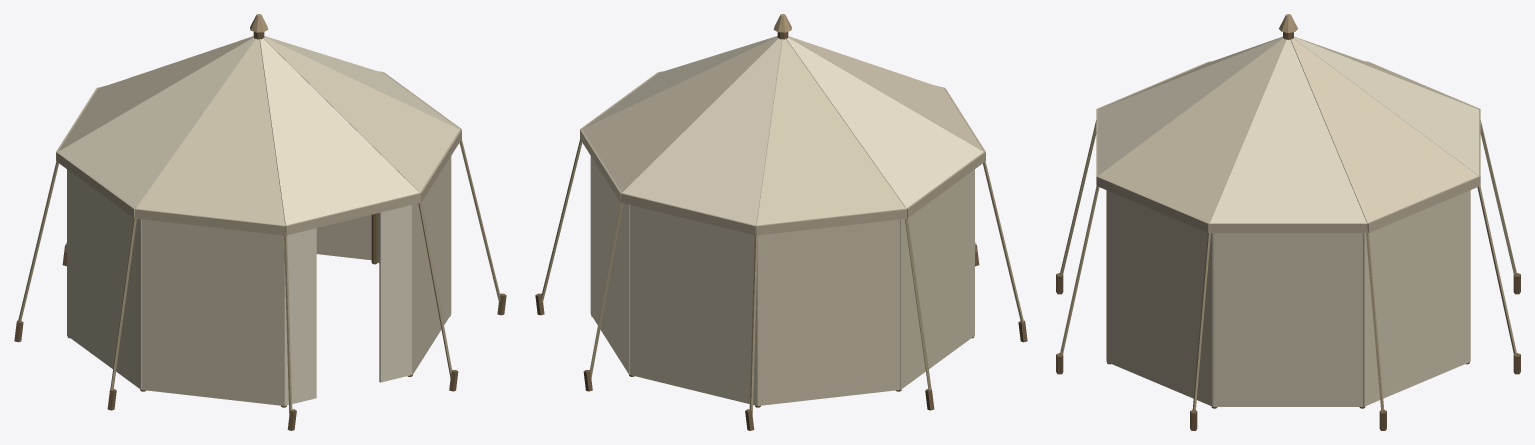
File: tent_pavilion.glb
3 views of the same model, side by side, from view 1: azimuth 30°, elevation 25°; view 2: azimuth 150°, elevation 25°; view 3: azimuth 270°, elevation 25° (orthographic).
Parts seen in each view (by area): view 1: tent_pavilion_camp_canvas, tent_pavilion_camp_canvas_light, tent_pavilion_camp_canvas_shadow, tent_pavilion_camp_rope, tent_pavilion_oak_dark; view 2: tent_pavilion_camp_canvas, tent_pavilion_camp_canvas_light, tent_pavilion_camp_canvas_shadow, tent_pavilion_camp_rope, tent_pavilion_oak_dark; view 3: tent_pavilion_camp_canvas, tent_pavilion_camp_canvas_light, tent_pavilion_camp_canvas_shadow, tent_pavilion_camp_rope, tent_pavilion_oak_dark.
Part boxes in pixels (x1=…): tent_pavilion_camp_canvas: x1=58, y1=36, x2=459, y2=405; tent_pavilion_camp_canvas_light: x1=58, y1=36, x2=458, y2=405; tent_pavilion_camp_canvas_shadow: x1=56, y1=71, x2=461, y2=235; tent_pavilion_camp_rope: x1=18, y1=139, x2=500, y2=414; tent_pavilion_oak_dark: x1=14, y1=32, x2=506, y2=430; tent_pavilion_camp_canvas: x1=582, y1=36, x2=983, y2=405; tent_pavilion_camp_canvas_light: x1=583, y1=36, x2=983, y2=225; tent_pavilion_camp_canvas_shadow: x1=580, y1=71, x2=985, y2=235; tent_pavilion_camp_rope: x1=541, y1=139, x2=1023, y2=414; tent_pavilion_oak_dark: x1=535, y1=32, x2=1027, y2=430; tent_pavilion_camp_canvas: x1=1098, y1=36, x2=1478, y2=406; tent_pavilion_camp_canvas_light: x1=1098, y1=37, x2=1478, y2=361; tent_pavilion_camp_canvas_shadow: x1=1096, y1=61, x2=1480, y2=233; tent_pavilion_camp_rope: x1=1060, y1=120, x2=1516, y2=410; tent_pavilion_oak_dark: x1=1056, y1=32, x2=1520, y2=430.
Bounding box in the file's own units: 4.3 × 3.23 × 4.27.
